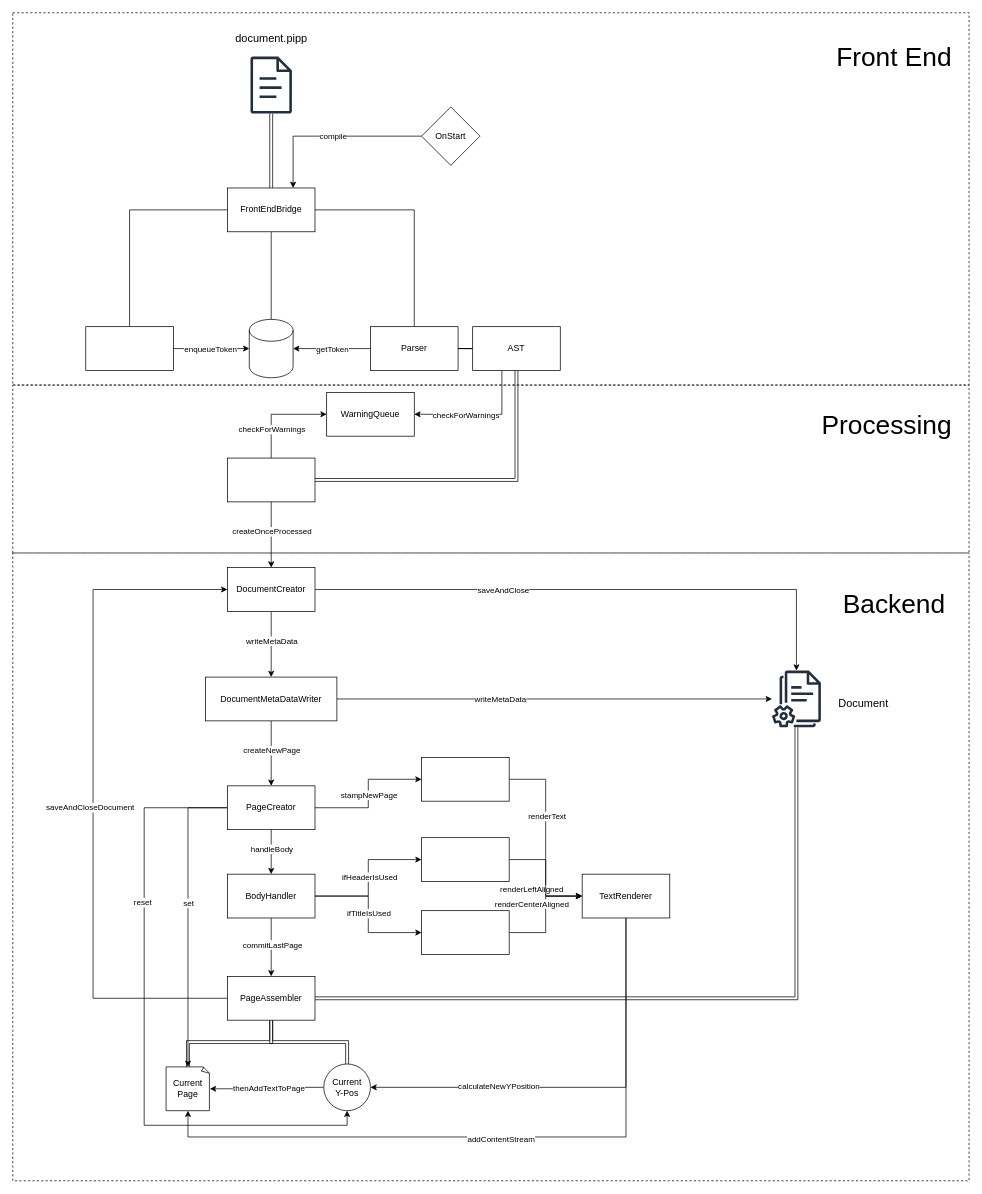
This 982x1194 diagram has some shape labels left out. The shapes that lost their labels are listed below. From the top down, each one's centre as x and y in pixels, then its label:
At [129,348]: "Scanner".
At [271,348]: "tokens".
At [271,479]: "Processor".
At [465,779]: "PageNumberStamp".
At [465,859]: "HeaderStamp".
At [465,932]: "TitleStamp".
